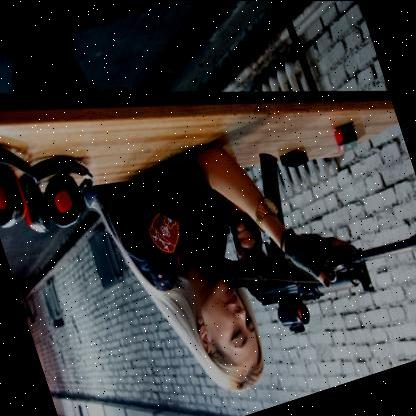rifle: (185, 121, 416, 359)
